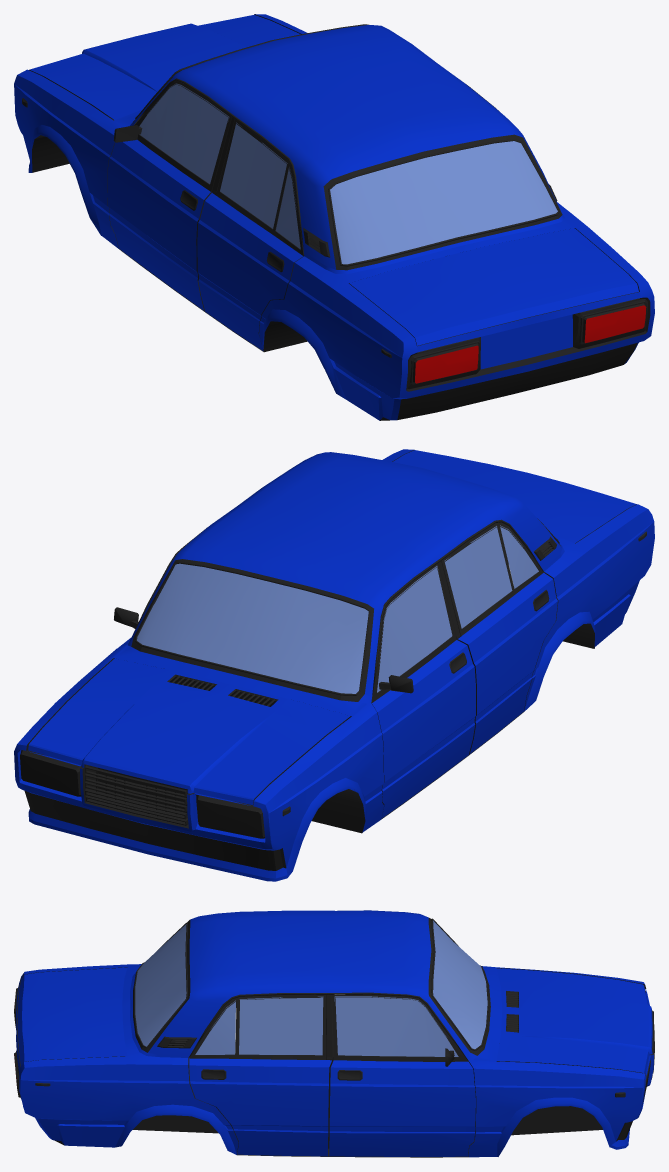
The model's file is Classic_1.FBX.
The picture shows the model from 3 angles, top to bottom: view 1: azimuth 30°, elevation 25°; view 2: azimuth 150°, elevation 25°; view 3: azimuth 270°, elevation 25°; orthographic projection. The views are drawn at different scales.
Parts seen in each view (by area): view 1: Classic_1_Body, Classic_1_Roof, Classic_1_Trunk, Classic_1_Glass_B, Classic_1_Door_LF, Classic_1_Door_LB, Classic_1_Hood, Classic_1_Glass_LF, Classic_1_Glass_LC, Classic_1_Glass_LB; view 2: Classic_1_Body, Classic_1_Roof, Classic_1_Hood, Classic_1_Glass_F, Classic_1_Door_LF, Classic_1_Door_LB, Classic_1_Trunk, Classic_1_Glass_LF, Classic_1_Glass_LC, Classic_1_Glass_LB; view 3: Classic_1_Body, Classic_1_Roof, Classic_1_Door_RF, Classic_1_Hood, Classic_1_Door_RB, Classic_1_Trunk, Classic_1_Glass_RF, Classic_1_Glass_RC, Classic_1_Glass_F, Classic_1_Glass_B, Classic_1_Glass_RB.
Boxes of the visible parts, x1,y1,x2,y2 form: Classic_1_Body: (14,14,654,420); Classic_1_Roof: (132,24,562,269); Classic_1_Trunk: (349,228,638,345); Classic_1_Glass_B: (330,141,557,264); Classic_1_Door_LF: (107,81,231,310); Classic_1_Door_LB: (197,119,303,350); Classic_1_Hood: (29,15,300,119); Classic_1_Glass_LF: (139,83,229,183); Classic_1_Glass_LC: (220,122,287,228); Classic_1_Glass_LB: (275,167,300,248); Classic_1_Body: (14,449,654,881); Classic_1_Roof: (131,452,562,696); Classic_1_Hood: (28,658,350,804); Classic_1_Glass_F: (137,563,368,693); Classic_1_Door_LF: (371,563,475,818); Classic_1_Door_LB: (441,522,557,754); Classic_1_Trunk: (393,450,636,543); Classic_1_Glass_LF: (377,566,452,692); Classic_1_Glass_LC: (444,526,512,628); Classic_1_Glass_LB: (500,525,538,588); Classic_1_Body: (14,962,654,1157); Classic_1_Roof: (146,910,475,1057); Classic_1_Door_RF: (329,994,475,1156); Classic_1_Hood: (496,968,652,1074); Classic_1_Door_RB: (189,995,331,1156); Classic_1_Trunk: (17,967,127,1066); Classic_1_Glass_RF: (334,996,458,1056); Classic_1_Glass_RC: (239,996,323,1055); Classic_1_Glass_F: (433,920,487,1049); Classic_1_Glass_B: (135,924,186,1046); Classic_1_Glass_RB: (195,1000,235,1054).
Size of the model in its own units: 203 by 134 by 470.
